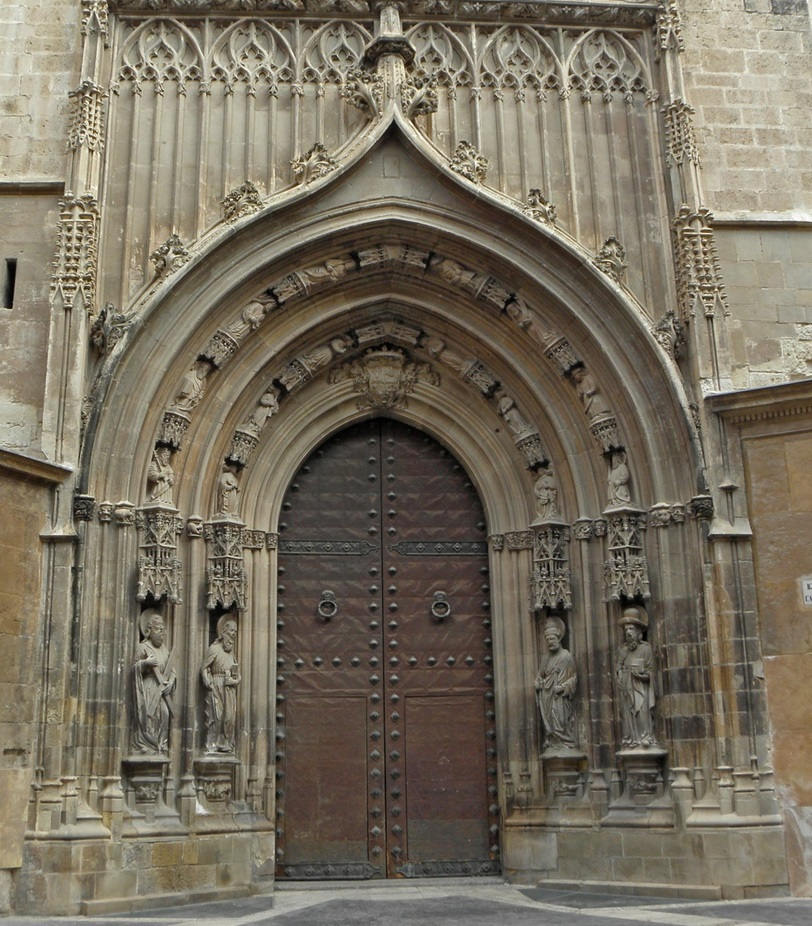arco-apuntado: (125, 216, 659, 507)
arco-conopial: (215, 100, 559, 223)
